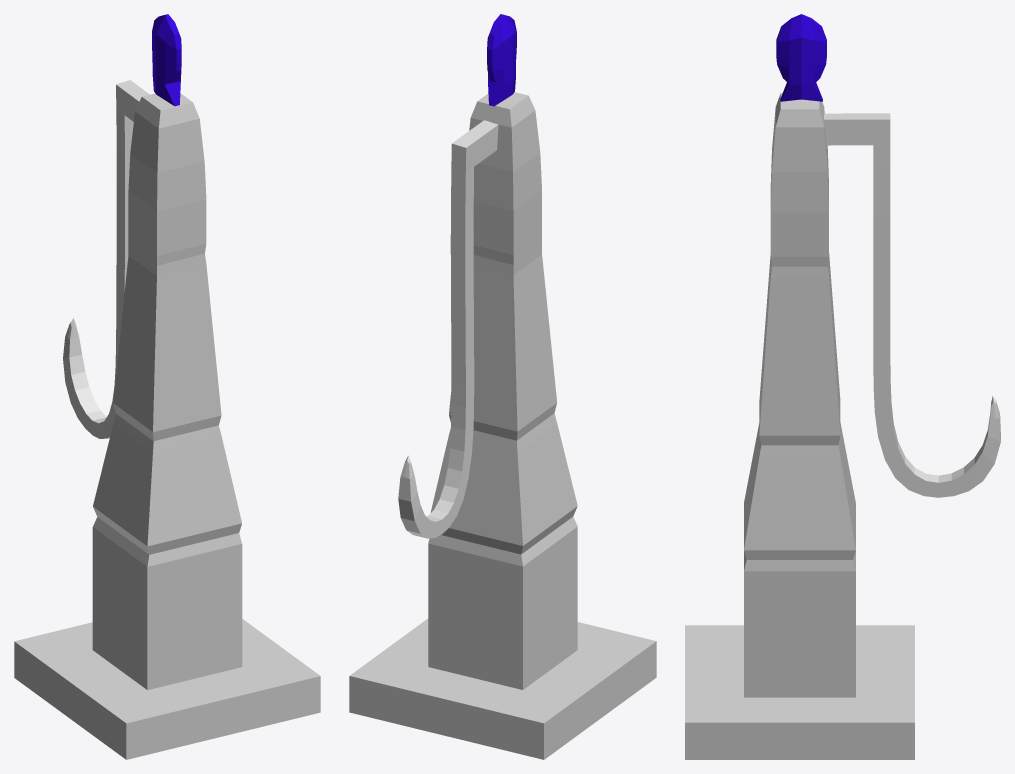
The model's file is Fishing hook.fbx.
The picture shows the model from 3 angles, left to right: view 1: azimuth 30°, elevation 25°; view 2: azimuth 150°, elevation 25°; view 3: azimuth 270°, elevation 25°; orthographic projection. The views are drawn at different scales.
Parts seen in each view (by area): view 1: Cube.001, Cube, Cube.002; view 2: Cube.001, Cube, Cube.002; view 3: Cube.001, Cube, Cube.002.
Boxes of the visible parts, <box> form: Cube.001: <box>14,93,320,759</box>; Cube: <box>63,80,149,438</box>; Cube.002: <box>152,14,181,106</box>; Cube.001: <box>349,92,656,759</box>; Cube: <box>398,120,498,538</box>; Cube.002: <box>487,14,516,106</box>; Cube.001: <box>685,93,914,759</box>; Cube: <box>824,113,1000,497</box>; Cube.002: <box>776,14,826,101</box>.
Bounding box in the file's own units: 59.78 × 200 × 82.18.
